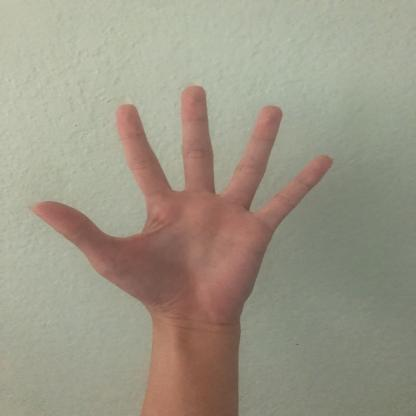palm: (26, 78, 339, 329)
